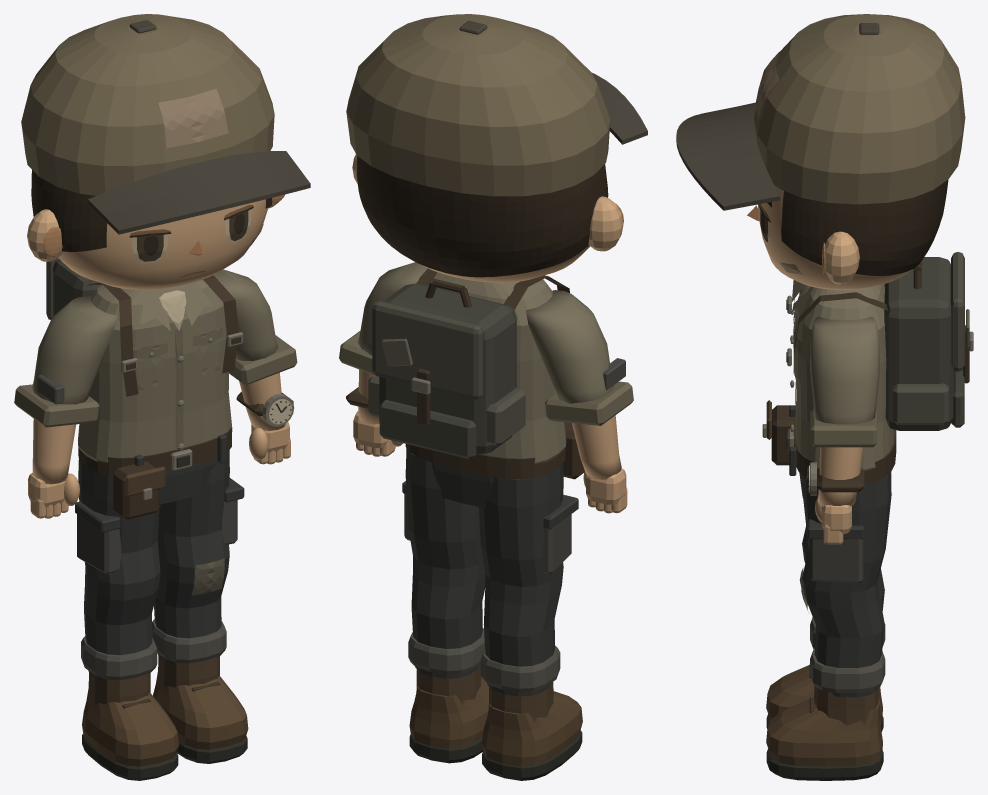
Rendered from ThreeHeadSurvivor.glb.
The picture shows the model from 3 angles, left to right: view 1: azimuth 30°, elevation 25°; view 2: azimuth 150°, elevation 25°; view 3: azimuth 270°, elevation 25°; orthographic projection. The views are drawn at different scales.
Visible parts, largest first — view 1: ThreeHead_Cap, ThreeHead_Shirt, ThreeHead_Trousers, ThreeHead_Boots, ThreeHead_Head, ThreeHead_Backpack, ThreeHead_Body, ThreeHead_Hair, ThreeHead_Hands, ThreeHead_BeltPouch, ThreeHead_Belt, ThreeHead_FaceDetails (+1 smaller); view 2: ThreeHead_Cap, ThreeHead_Trousers, ThreeHead_Backpack, ThreeHead_Shirt, ThreeHead_Hair, ThreeHead_Boots, ThreeHead_Body, ThreeHead_Hands, ThreeHead_Belt, ThreeHead_Head, ThreeHead_BeltPouch; view 3: ThreeHead_Cap, ThreeHead_Shirt, ThreeHead_Trousers, ThreeHead_Backpack, ThreeHead_Boots, ThreeHead_Hair, ThreeHead_Head, ThreeHead_Body, ThreeHead_BeltPouch, ThreeHead_Belt, ThreeHead_Hands, ThreeHead_Watch (+1 smaller).
Boxes of the visible parts, x1=… form: ThreeHead_Cap: x1=21, y1=14, x2=310, y2=234; ThreeHead_Shirt: x1=14, y1=269, x2=297, y2=462; ThreeHead_Trousers: x1=75, y1=434, x2=244, y2=680; ThreeHead_Boots: x1=82, y1=656, x2=248, y2=780; ThreeHead_Head: x1=27, y1=194, x2=285, y2=289; ThreeHead_Backpack: x1=46, y1=258, x2=243, y2=396; ThreeHead_Body: x1=32, y1=372, x2=285, y2=484; ThreeHead_Hair: x1=31, y1=170, x2=271, y2=251; ThreeHead_Hands: x1=28, y1=422, x2=290, y2=518; ThreeHead_BeltPouch: x1=113, y1=461, x2=165, y2=519; ThreeHead_Belt: x1=78, y1=427, x2=231, y2=476; ThreeHead_FaceDetails: x1=129, y1=205, x2=263, y2=277; ThreeHead_Cap: x1=346, y1=14, x2=647, y2=196; ThreeHead_Trousers: x1=402, y1=448, x2=578, y2=696; ThreeHead_Backpack: x1=368, y1=268, x2=569, y2=459; ThreeHead_Shirt: x1=339, y1=262, x2=633, y2=463; ThreeHead_Hair: x1=357, y1=156, x2=608, y2=277; ThreeHead_Boots: x1=409, y1=664, x2=582, y2=780; ThreeHead_Body: x1=358, y1=369, x2=621, y2=479; ThreeHead_Hands: x1=353, y1=411, x2=627, y2=513; ThreeHead_Belt: x1=405, y1=444, x2=565, y2=479; ThreeHead_Head: x1=352, y1=154, x2=623, y2=282; ThreeHead_BeltPouch: x1=563, y1=422, x2=584, y2=479; ThreeHead_Cap: x1=676, y1=14, x2=965, y2=210; ThreeHead_Shirt: x1=790, y1=280, x2=894, y2=471; ThreeHead_Trousers: x1=789, y1=405, x2=891, y2=697; ThreeHead_Backpack: x1=786, y1=252, x2=973, y2=430; ThreeHead_Boots: x1=766, y1=664, x2=883, y2=780; ThreeHead_Hair: x1=781, y1=179, x2=948, y2=275; ThreeHead_Head: x1=758, y1=185, x2=911, y2=289; ThreeHead_Body: x1=818, y1=447, x2=863, y2=506; ThreeHead_BeltPouch: x1=762, y1=400, x2=795, y2=465; ThreeHead_Belt: x1=786, y1=417, x2=896, y2=483; ThreeHead_Hands: x1=815, y1=496, x2=851, y2=544; ThreeHead_Watch: x1=806, y1=462, x2=864, y2=495.
Bounding box in the file's own units: 0.6787 × 1.8 × 0.6714.
